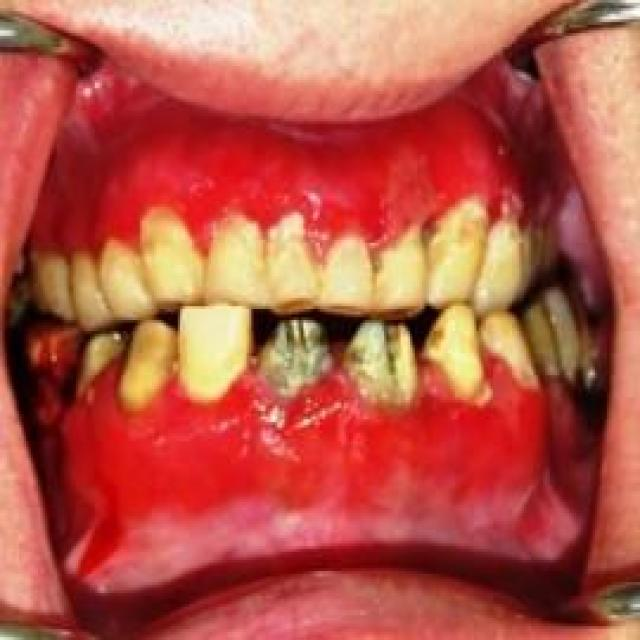caries: (352, 315, 418, 399), (260, 316, 330, 387)
